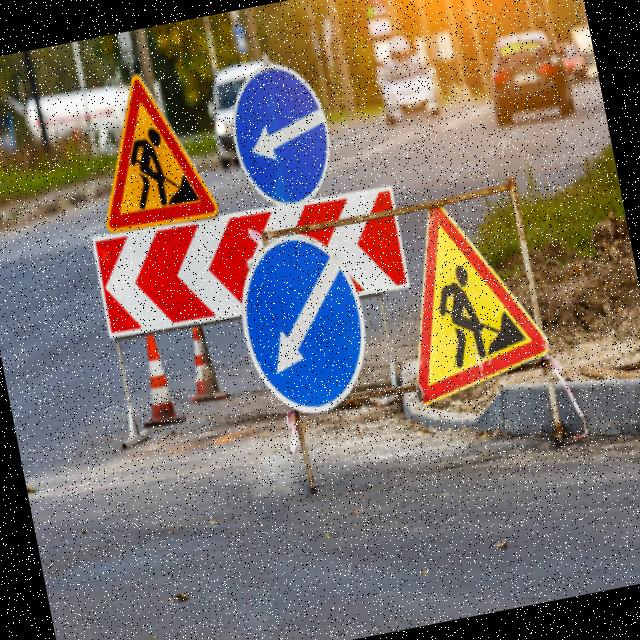road_work: (384, 186, 559, 409), (80, 57, 222, 241)
